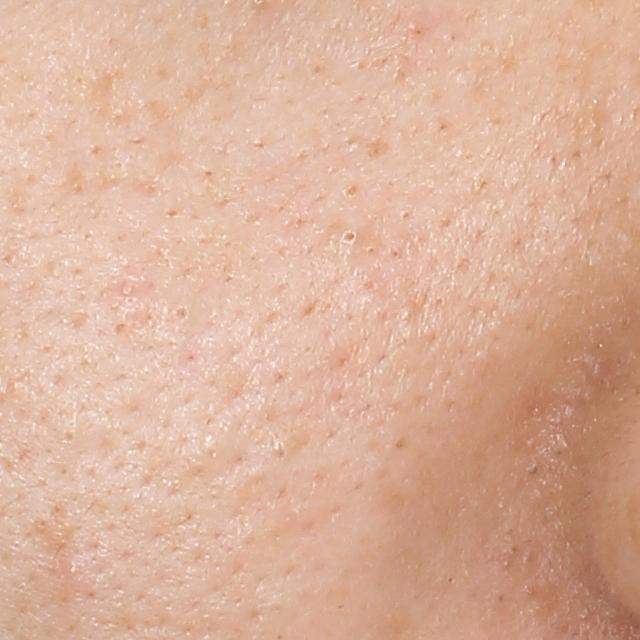comedo: (338, 180, 365, 203), (169, 300, 194, 324)
